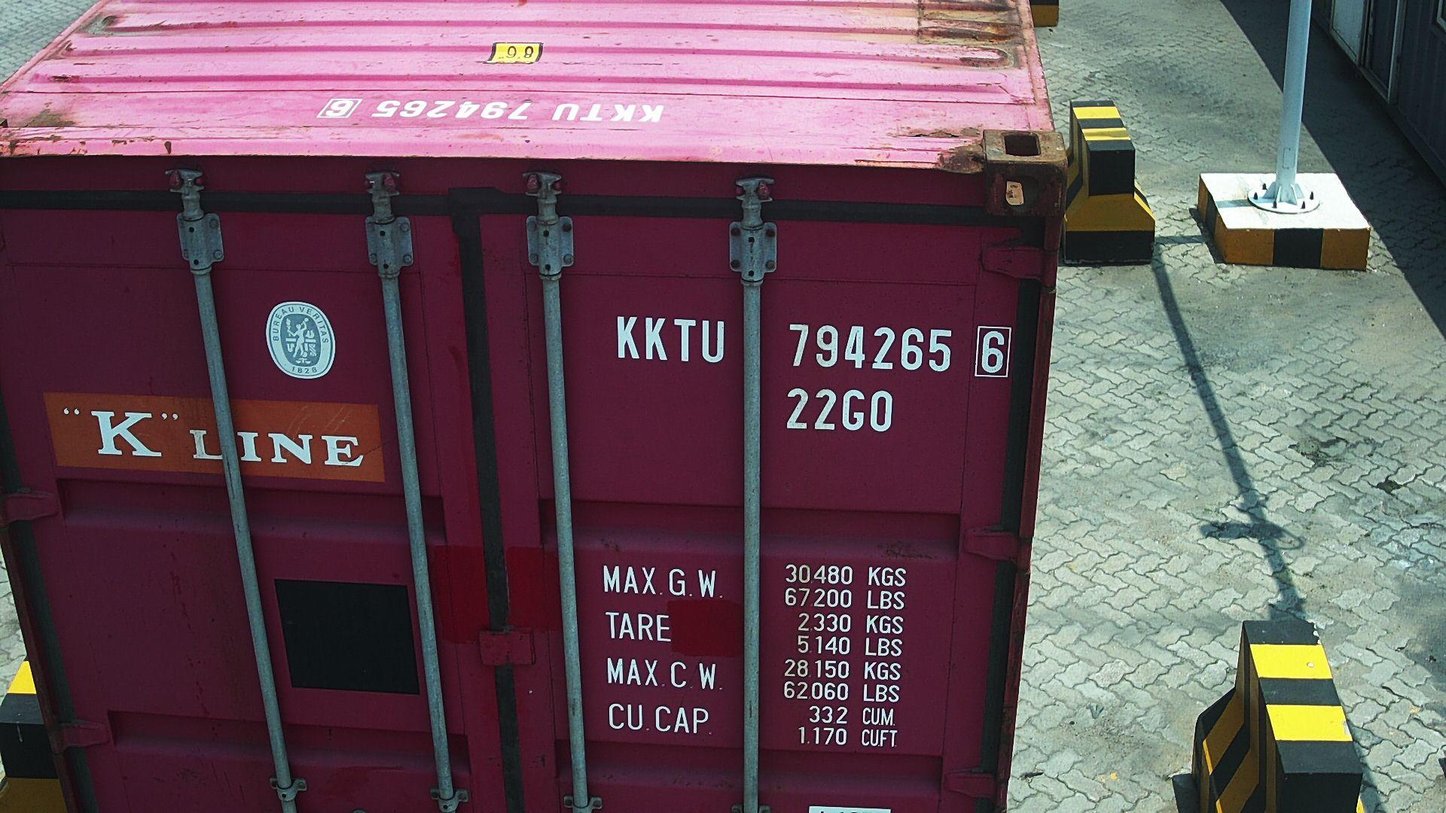container-numbers: (613, 314, 1017, 379), (309, 96, 671, 129), (781, 384, 898, 434)
